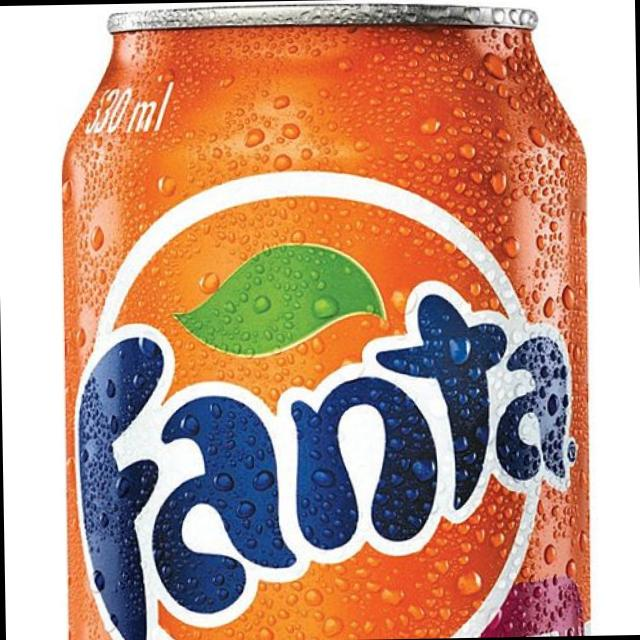fanta: (55, 1, 601, 638)
